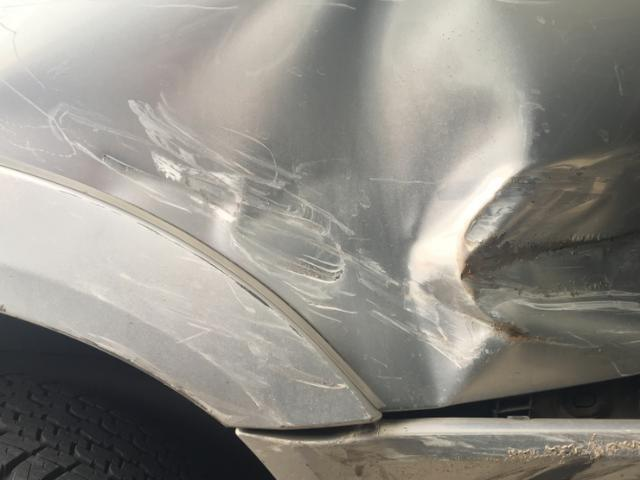Fender: (0, 17, 640, 415)
